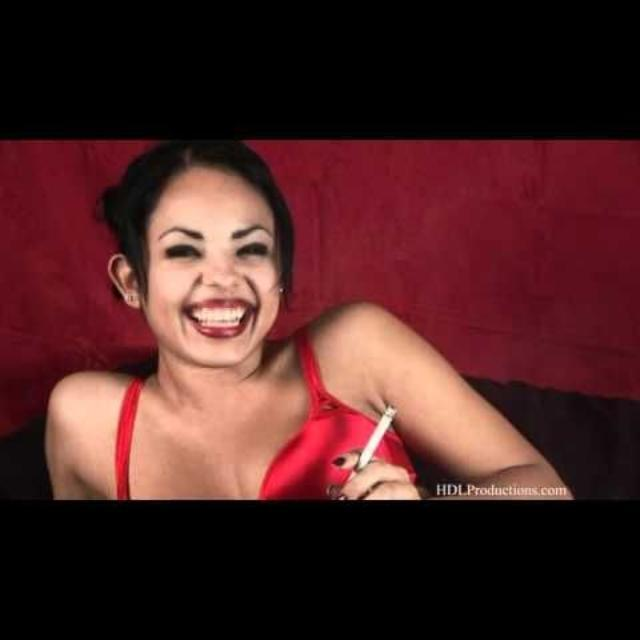rokok: (351, 403, 401, 471)
